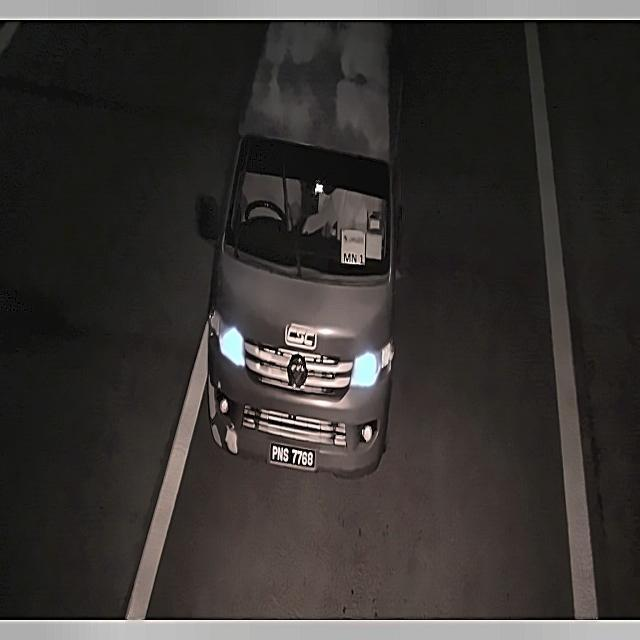car: (266, 434, 324, 476)
